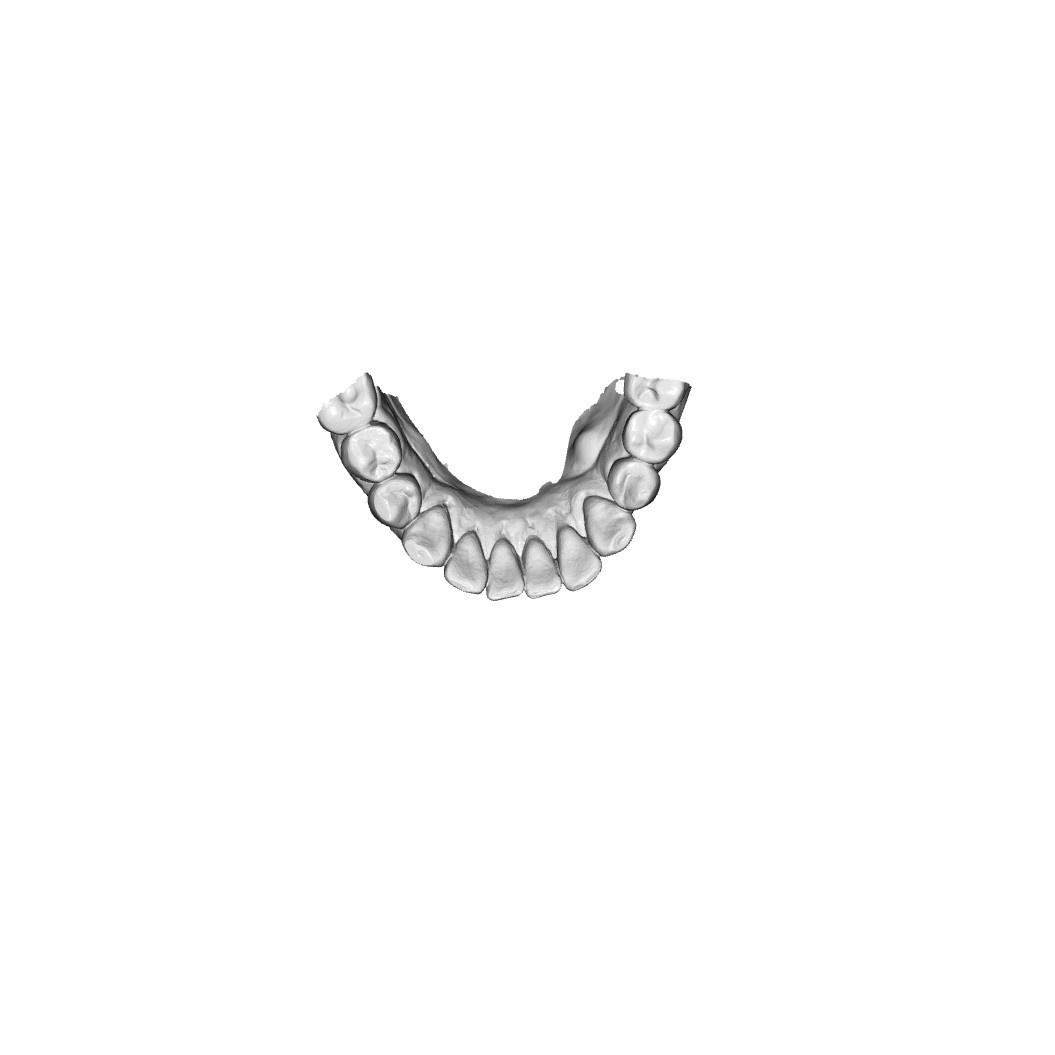canine: (584, 495, 637, 557), (402, 511, 450, 569)
incisor: (485, 542, 527, 605), (557, 528, 602, 586), (447, 536, 491, 595), (524, 532, 560, 594)
premolar: (347, 428, 402, 484), (627, 410, 679, 461), (609, 460, 659, 511), (372, 478, 422, 527)
